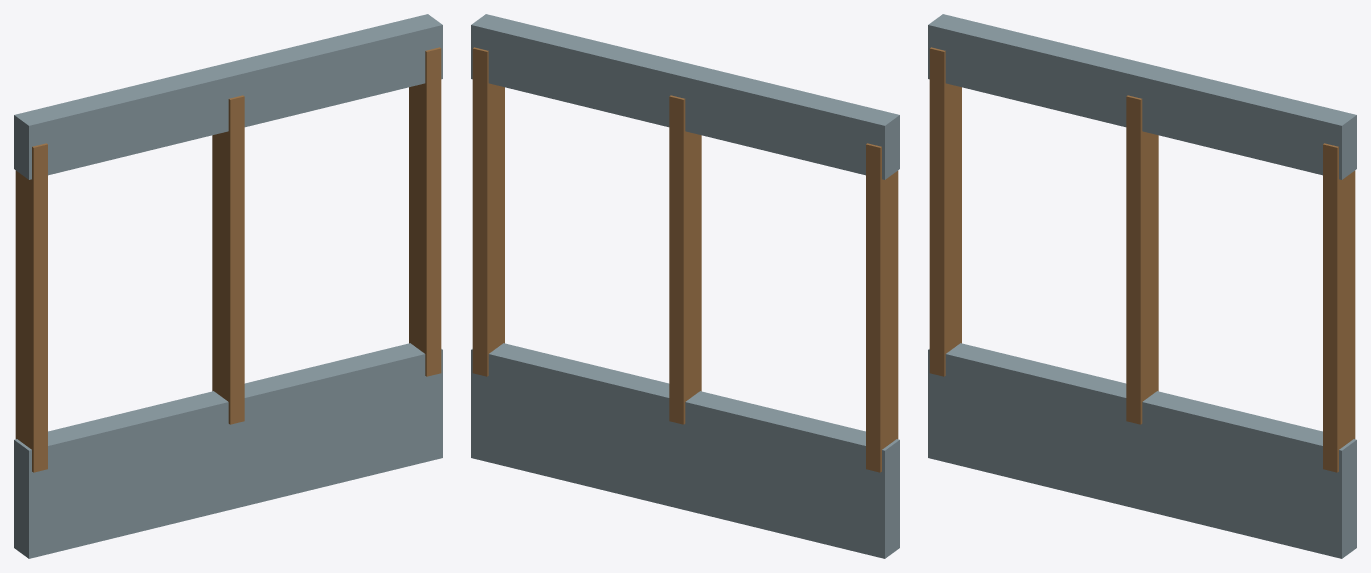
File: window.lod2.glb
3 views of the same model, side by side, from view 1: azimuth 30°, elevation 25°; view 2: azimuth 150°, elevation 25°; view 3: azimuth 330°, elevation 25° (orthographic).
Parts seen in each view (by area): view 1: structure; view 2: structure; view 3: structure.
Part boxes in pixels (x1,y1,x2,y2): structure: [14, 14, 442, 558]; structure: [471, 14, 899, 558]; structure: [928, 14, 1356, 558].
Bounding box in the file's own units: 4 × 4 × 0.3.
